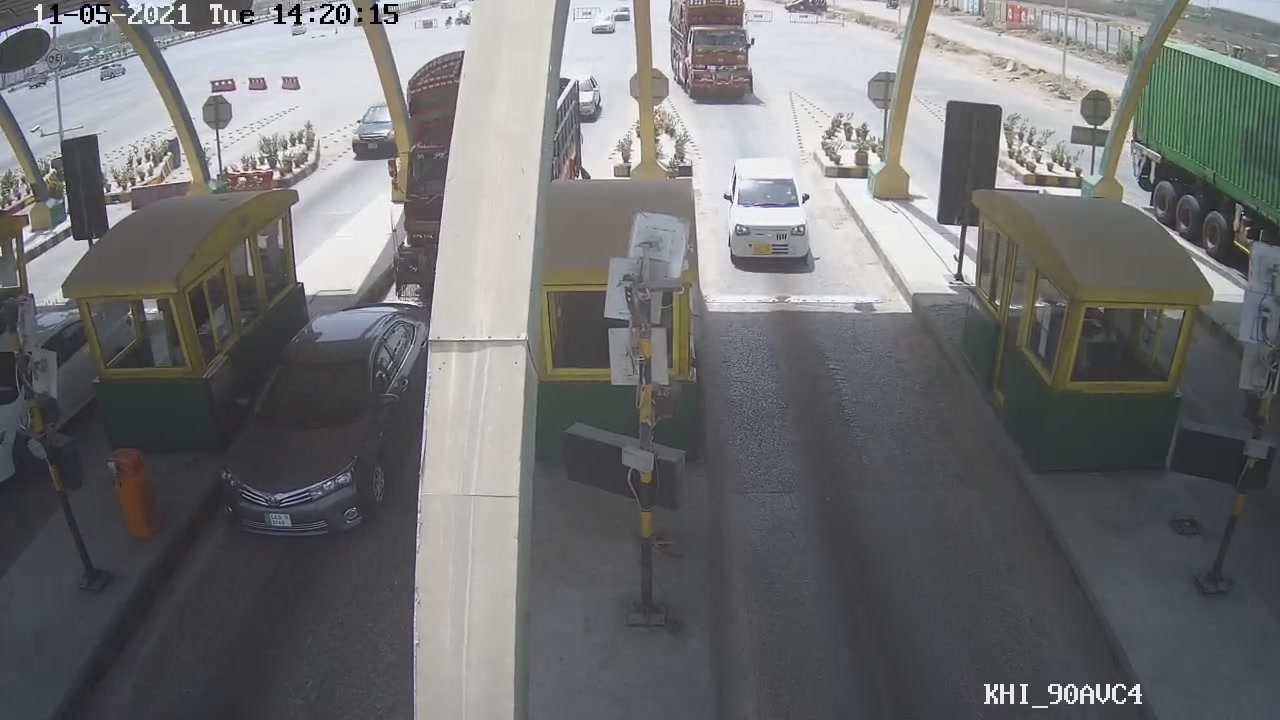F1: (723, 161, 816, 270)
